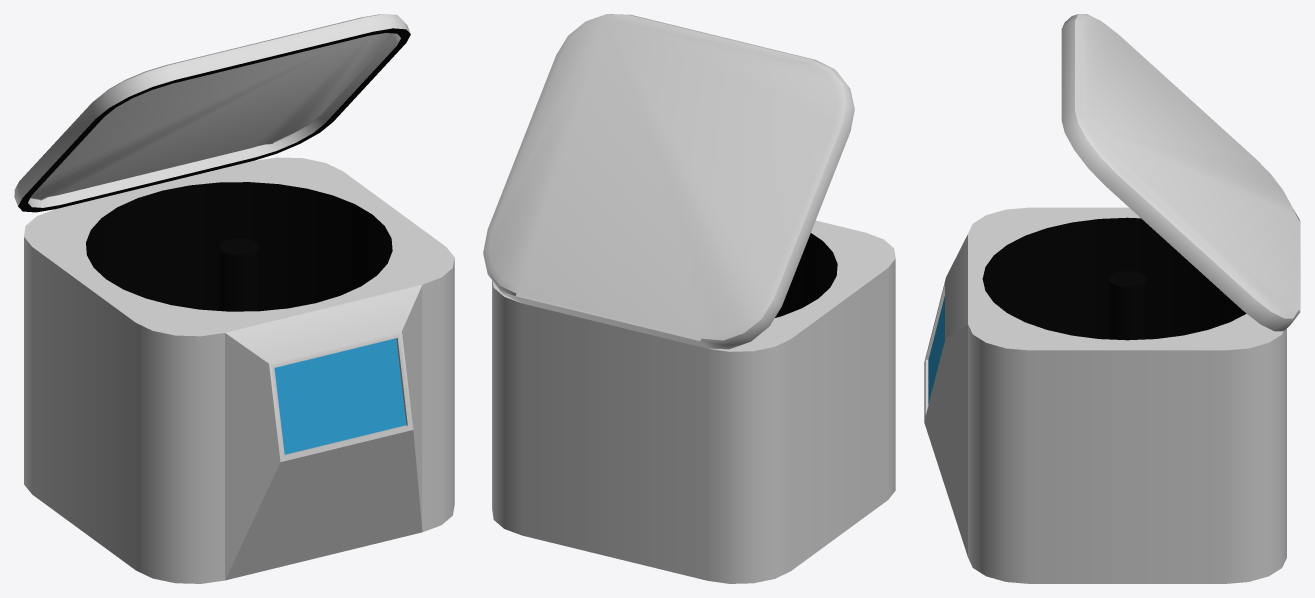
3 views of the same model, side by side, from view 1: azimuth 30°, elevation 25°; view 2: azimuth 150°, elevation 25°; view 3: azimuth 270°, elevation 25° (orthographic). The views are drawn at different scales.
Visible parts, largest first — view 1: SP-6; view 2: SP-6; view 3: SP-6.
Part boxes in pixels (x1,y1,x2,y2): SP-6: (14,14,454,583); SP-6: (483,14,895,583); SP-6: (924,14,1300,583).
Bounding box in the file's own units: 35 × 51.01 × 38.94.
